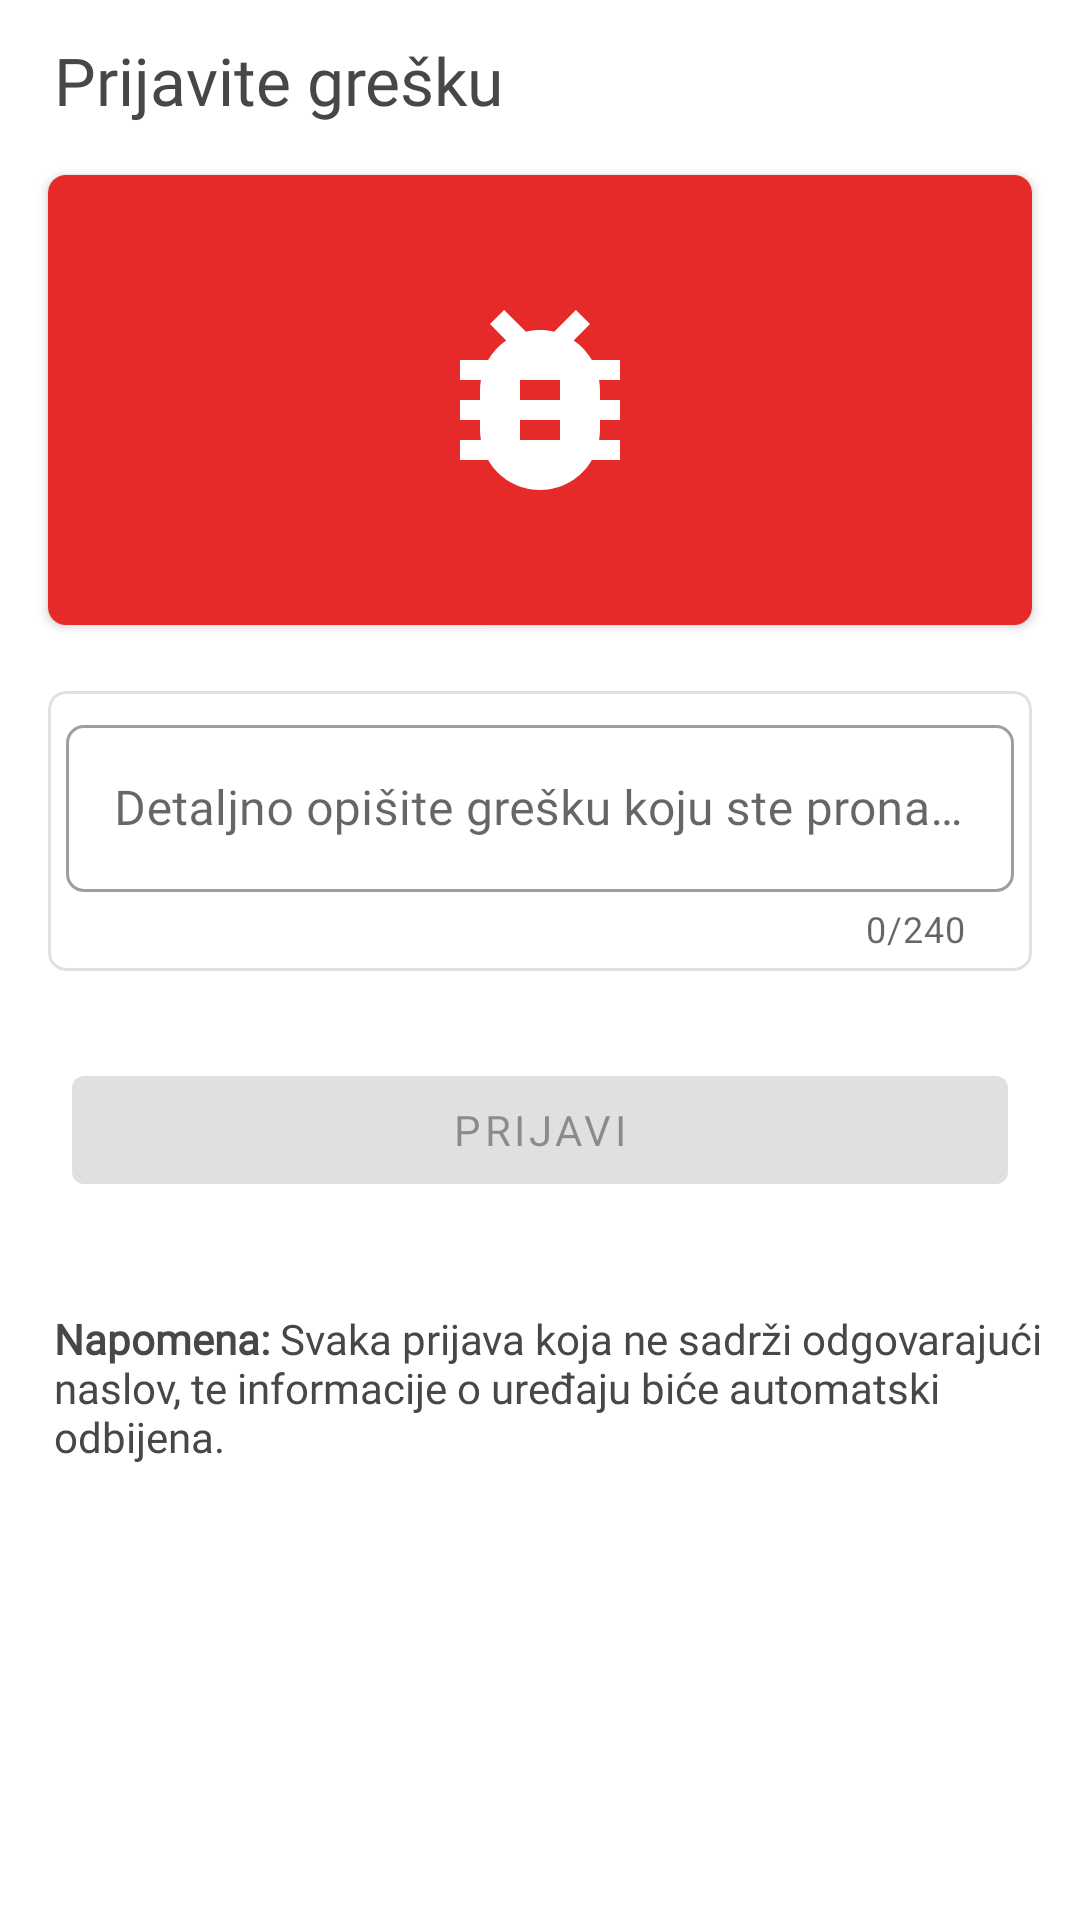

Screen size 1080 × 1920. Icon name, then its center in pixels as (x,y):
bug: (540,400)
